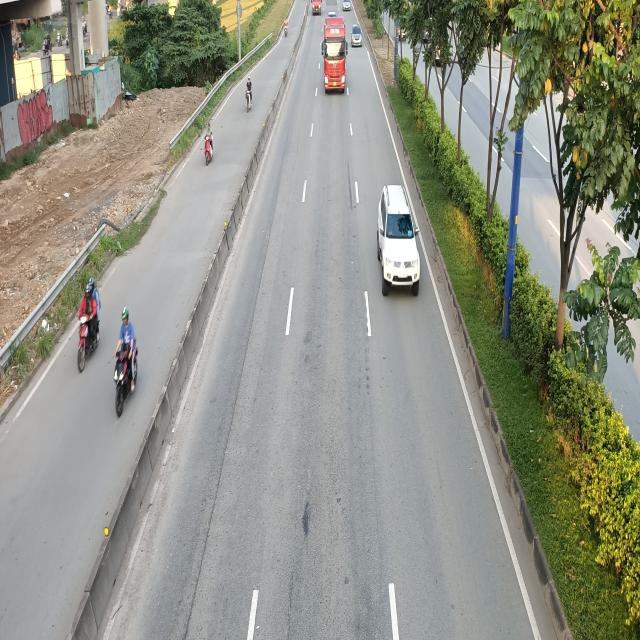car: (375, 182, 419, 294), (350, 23, 363, 48)
container: (322, 19, 348, 97)
